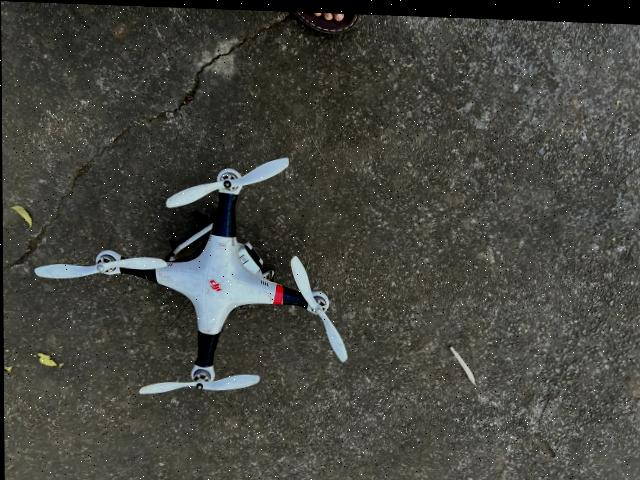drone: (28, 144, 359, 399)
